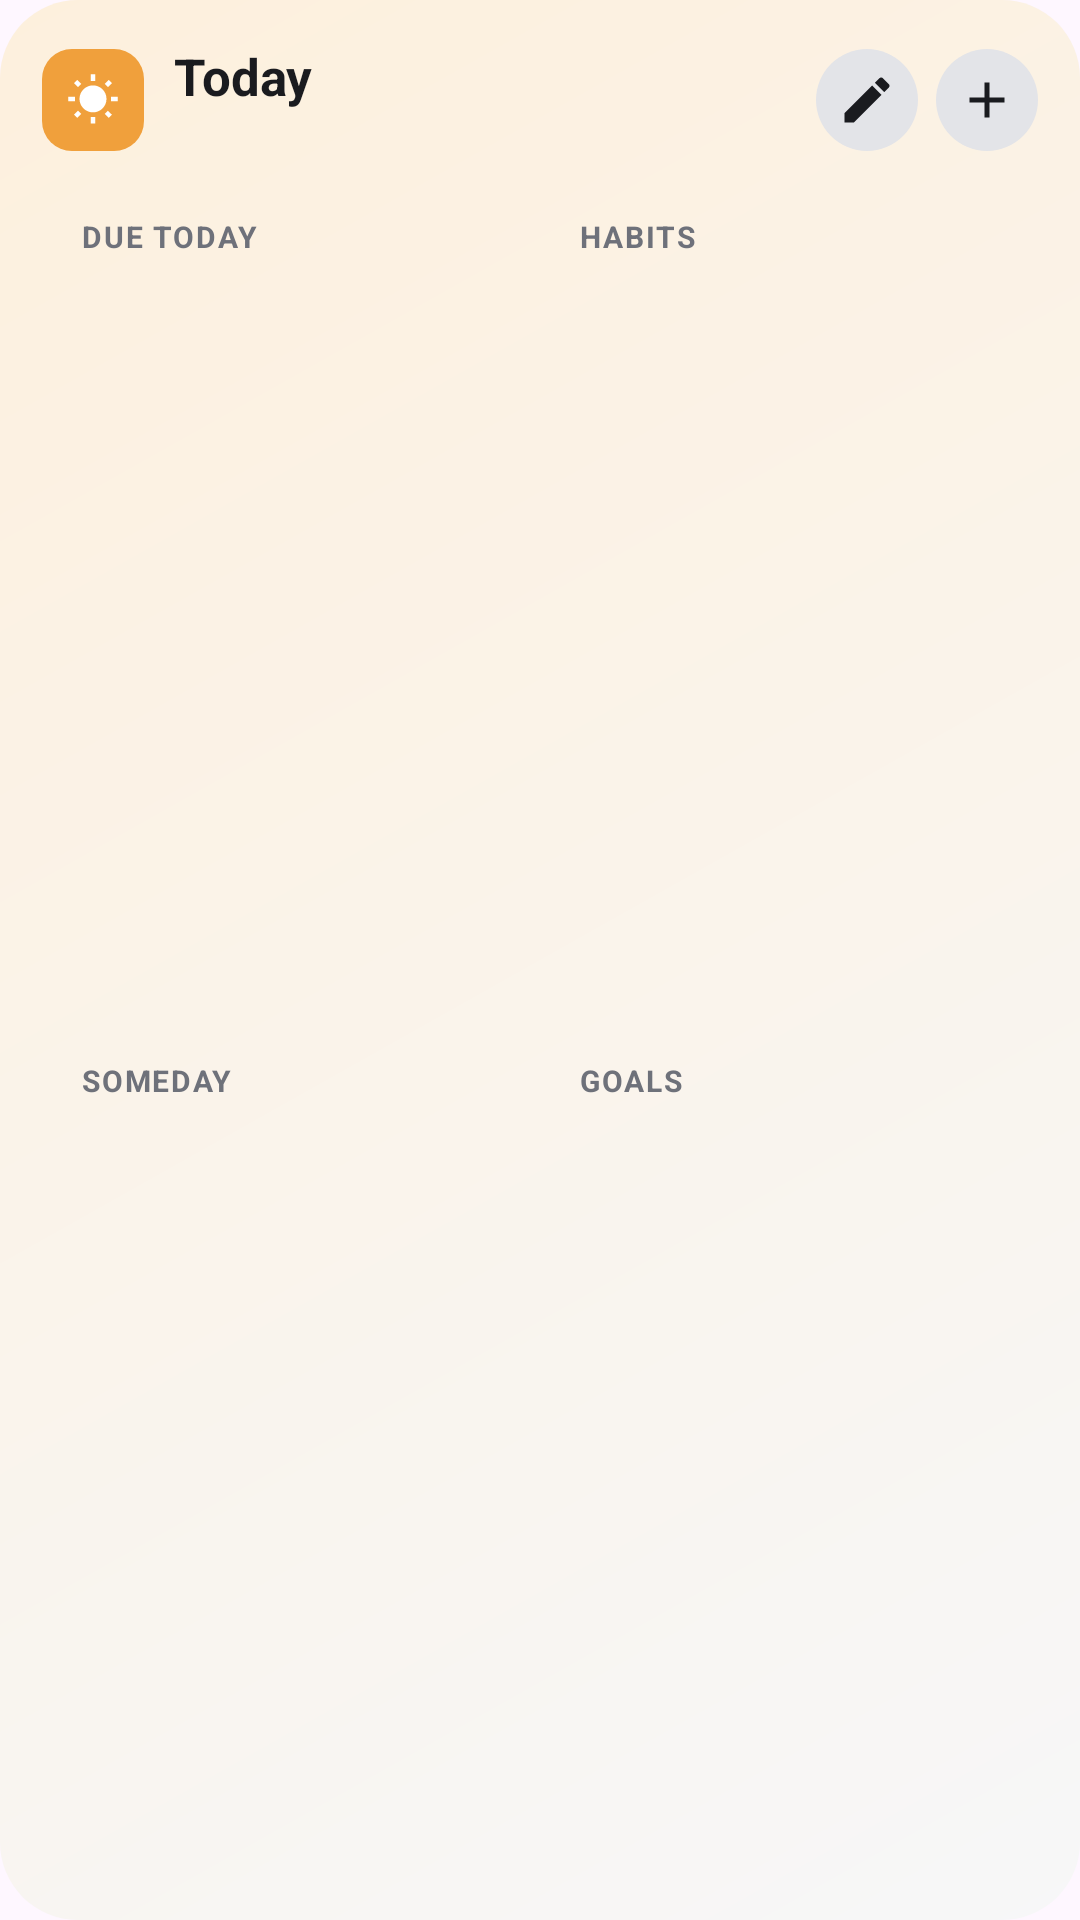

Where icons sit on this 1080×1920 app screen, as (x1, y1, x2, y2):
New task: (936, 49, 1038, 151)
widget sun: (42, 49, 144, 151)
